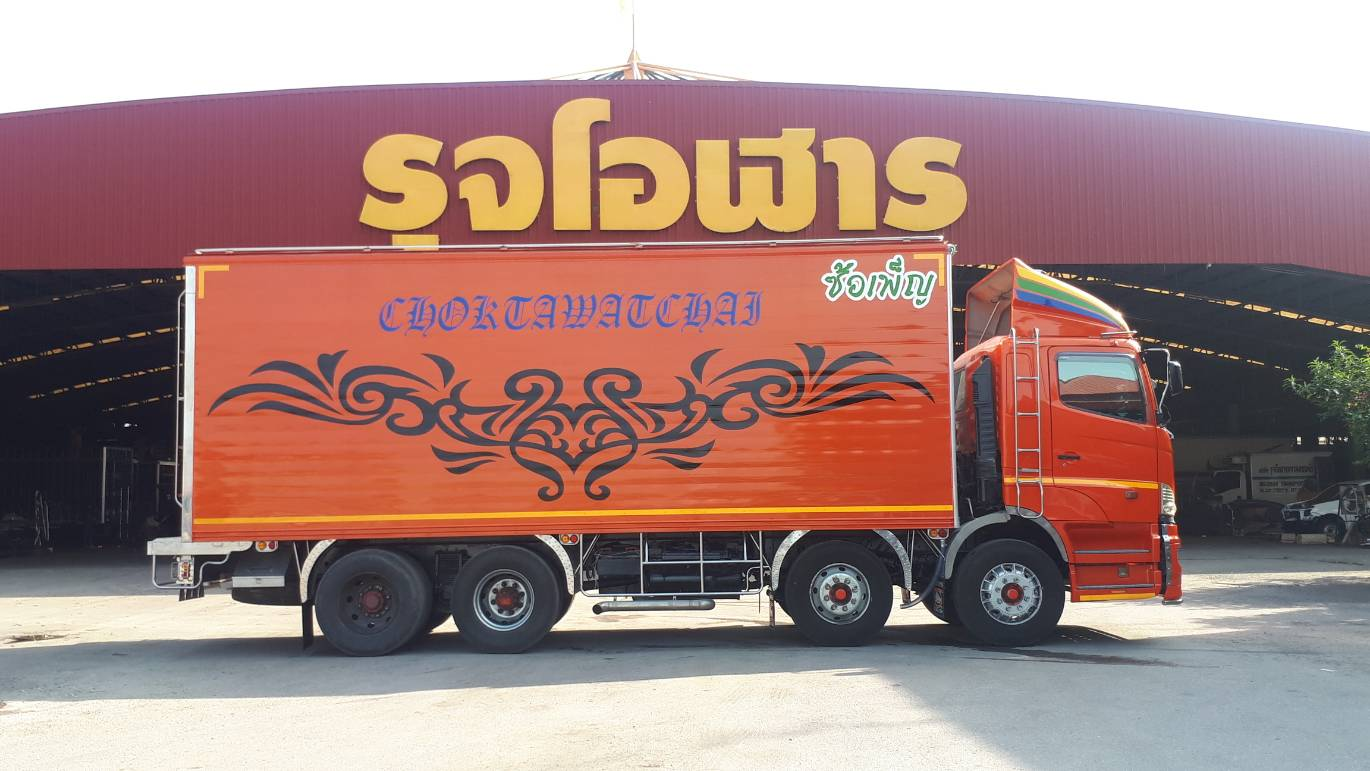truck: (163, 242, 1190, 650)
